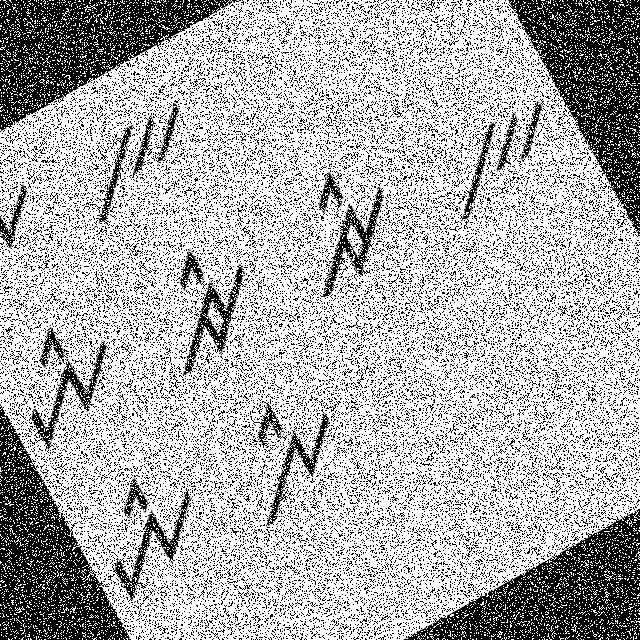li: (210, 373, 374, 538), (0, 146, 69, 313)
ri: (123, 223, 286, 390), (260, 145, 421, 307)
yi: (67, 450, 225, 610), (0, 300, 142, 455)
